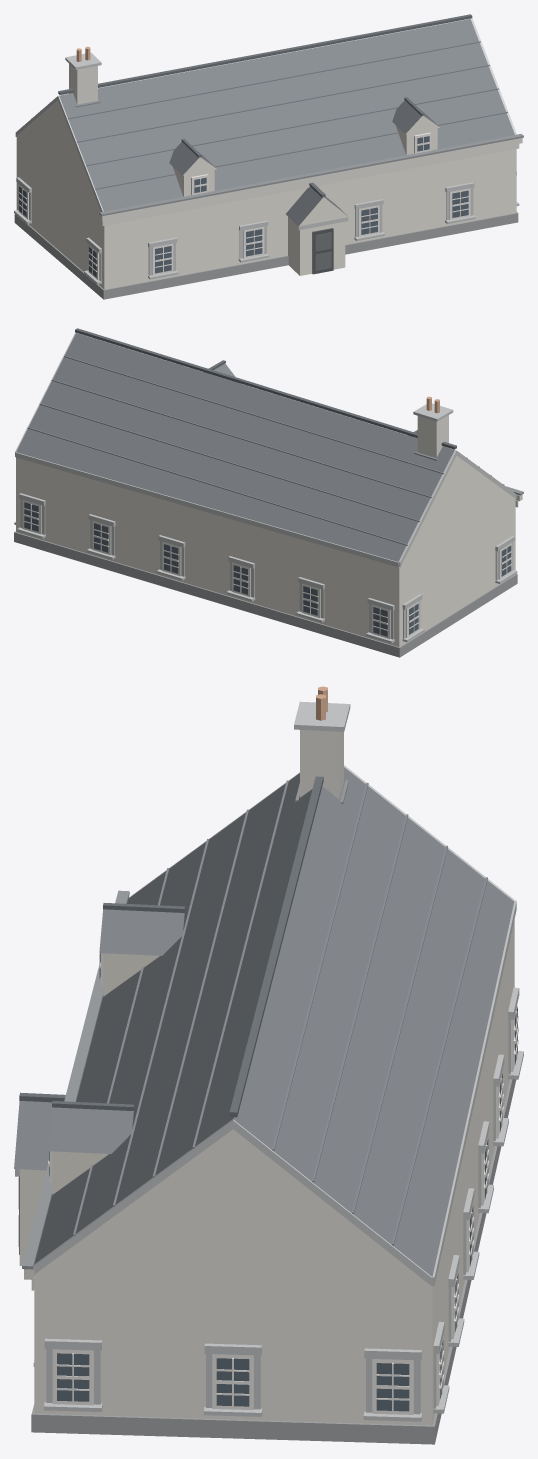
The picture shows the model from 3 angles, top to bottom: view 1: azimuth 30°, elevation 25°; view 2: azimuth 150°, elevation 25°; view 3: azimuth 270°, elevation 25°; orthographic projection. The views are drawn at different scales.
Parts seen in each view (by area): view 1: slate, harl_cream, plinth, string, stone_band, slate_lt, frame, slate_dk, lead, chim_render, door_dark_p, door_dark (+4 smaller); view 2: slate, harl_cream, stone_band, plinth, slate_lt, frame, slate_dk, chim_render; view 3: slate, harl_cream, stone_band, plinth, slate_lt, frame, slate_dk, lead, chim_render, window_glass_009, window_glass_007, window_glass_008.
Part boxes in pixels (x1,y1,x2,y2): slate: (59,19,514,225); harl_cream: (16,101,516,289); plinth: (14,212,518,299); string: (100,138,522,225); stone_band: (14,18,519,284); slate_lt: (31,41,507,189); frame: (18,132,470,280); slate_dk: (58,14,472,197); lead: (75,101,523,216); chim_render: (69,64,97,104); door_dark_p: (315,232,331,270); door_dark: (312,228,333,274); slate: (16,333,454,561); harl_cream: (16,455,515,647); stone_band: (14,332,517,643); plinth: (14,531,517,657); slate_lt: (27,355,504,545); frame: (22,499,512,638); slate_dk: (75,328,456,449); chim_render: (417,415,448,457); slate: (14,767,513,1276); harl_cream: (19,920,514,1425); stone_band: (15,701,523,1421); plinth: (31,1079,516,1444); slate_lt: (73,780,487,1245); frame: (48,953,518,1414); slate_dk: (19,776,323,1117); lead: (22,780,348,1269); chim_render: (300,730,343,799); window_glass_009: (376,1363,409,1411); window_glass_007: (57,1353,89,1401); window_glass_008: (216,1358,249,1406).
Bounding box in the file's own units: 21 × 10.1 × 11.68.
